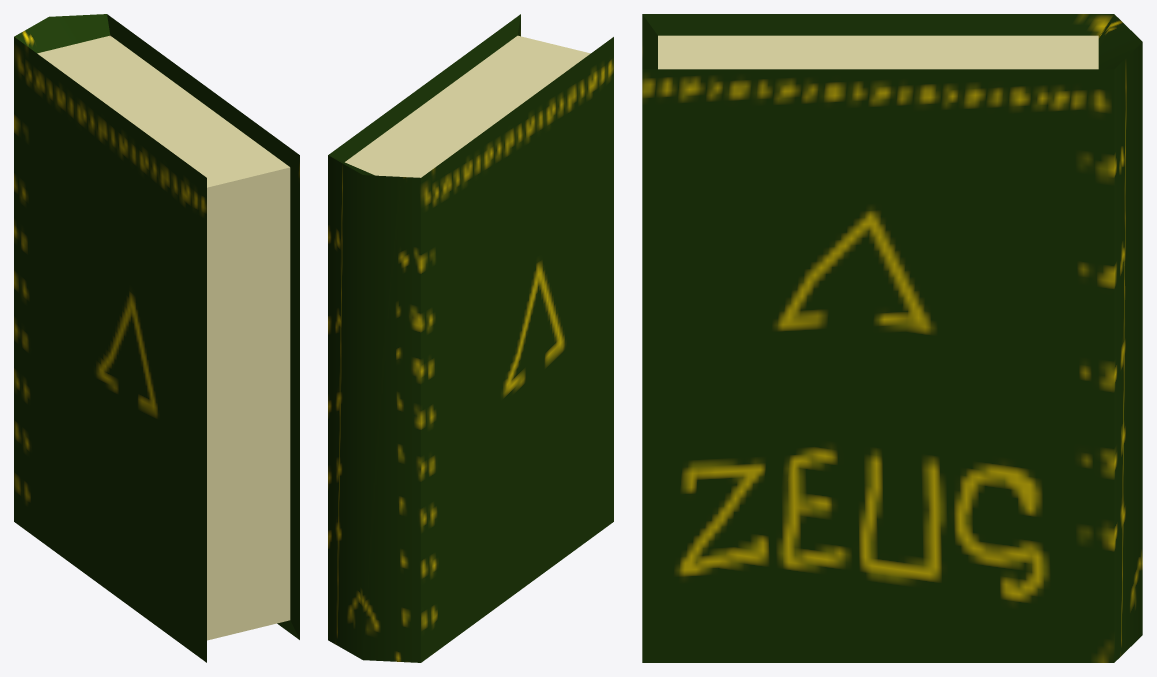
The model's file is book2.fbx.
3 views of the same model, side by side, from view 1: azimuth 30°, elevation 25°; view 2: azimuth 150°, elevation 25°; view 3: azimuth 270°, elevation 25° (orthographic). The views are drawn at different scales.
Visible parts, largest first — view 1: book2; view 2: book2; view 3: book2.
Boxes of the visible parts, x1,y1,x2,y2 form: book2: (14,14,299,662); book2: (328,14,613,662); book2: (642,14,1142,662).
Bounding box in the file's own units: 9.86 × 49.15 × 37.56.
